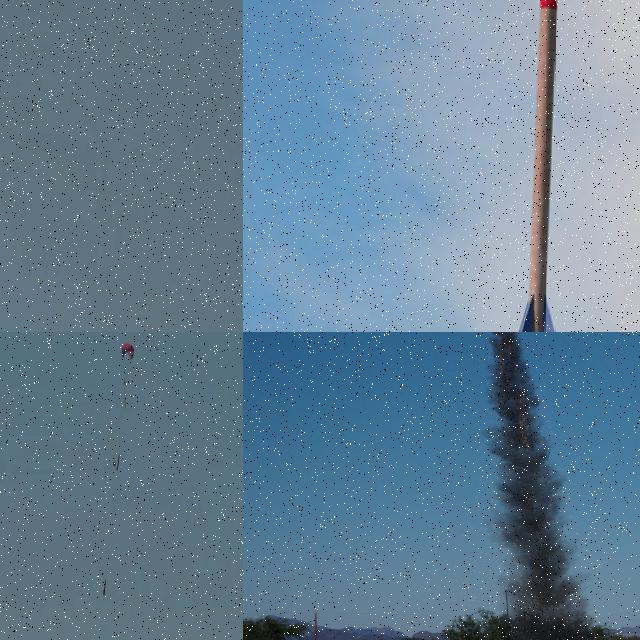Rocket: (497, 0, 571, 332), (103, 579, 106, 595)
